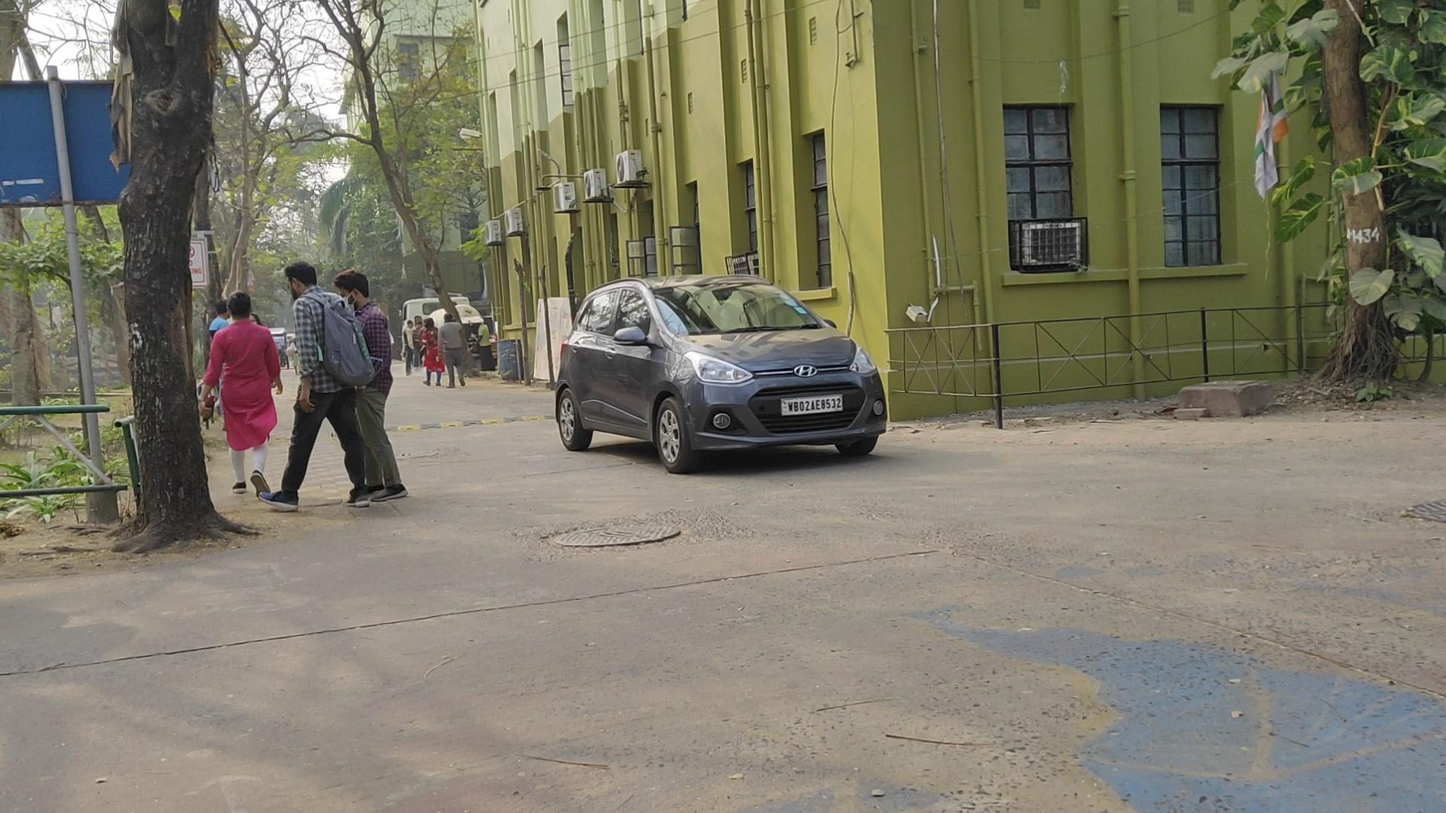car: (555, 274, 888, 475)
